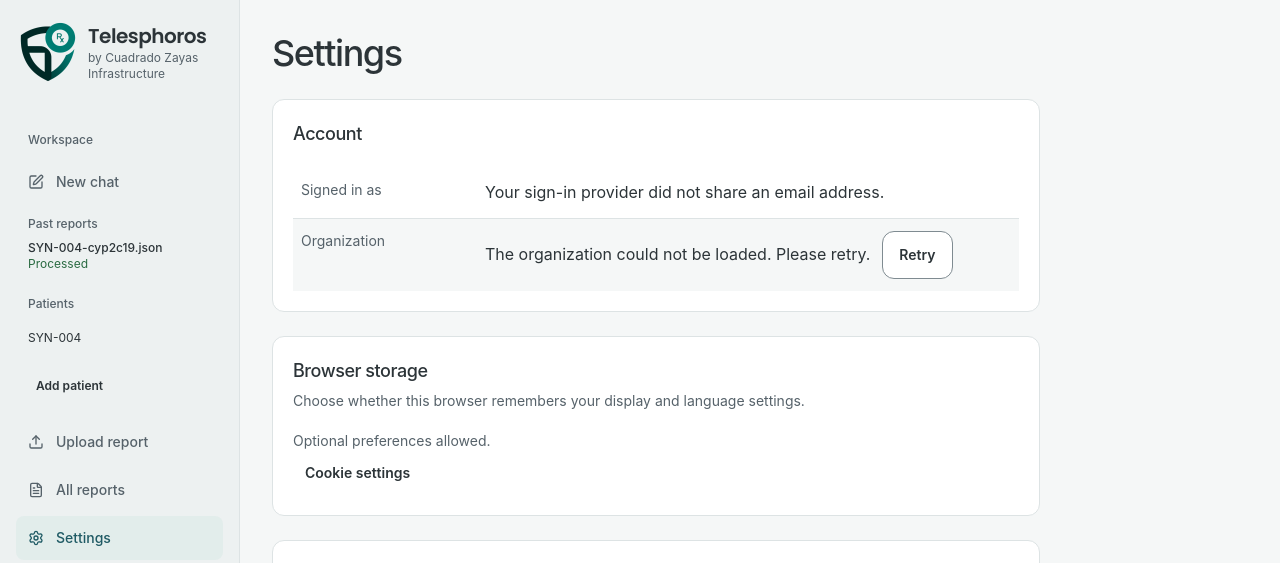
Test case: the feature panel (specs/024 D2, D6, CH-2) › Add patient (CH-9, D2a) › creates exactly one patient with a request id, then lists it
Click the button "Add patient".
click(120, 386)  # box [28,364,211,408]
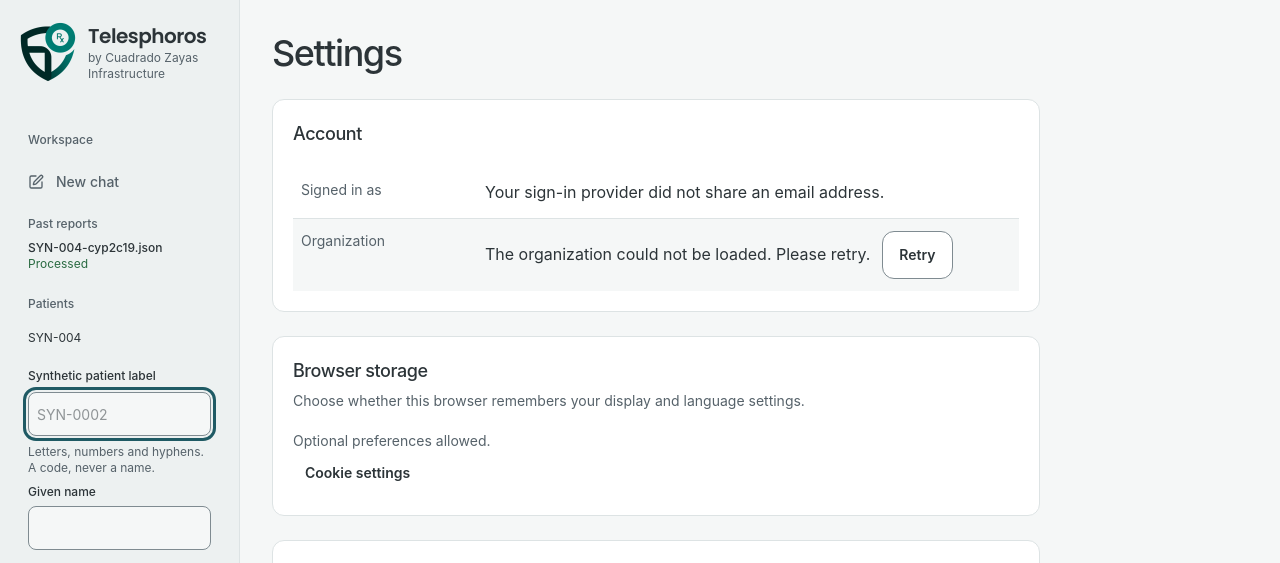
Type "SYN-777" into the field labelled "Synthetic patient label".
click(120, 414); type("SYN-777")  # box [28,392,211,436]
(page scrolled)
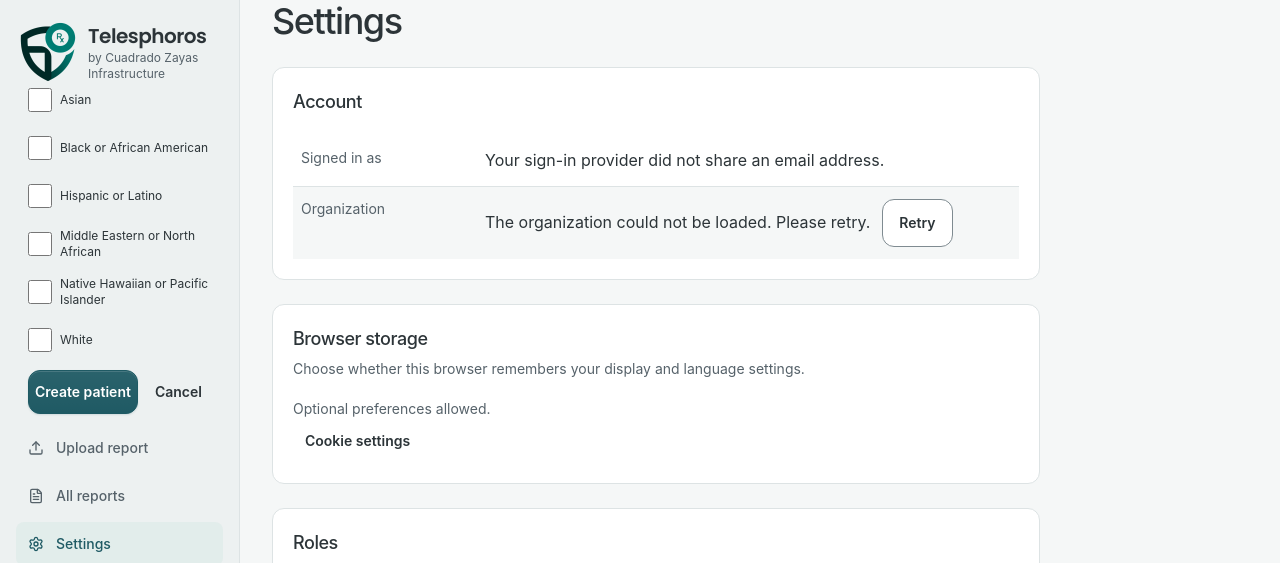
Click the button "Create patient".
click(83, 392)  # box [28,370,138,414]
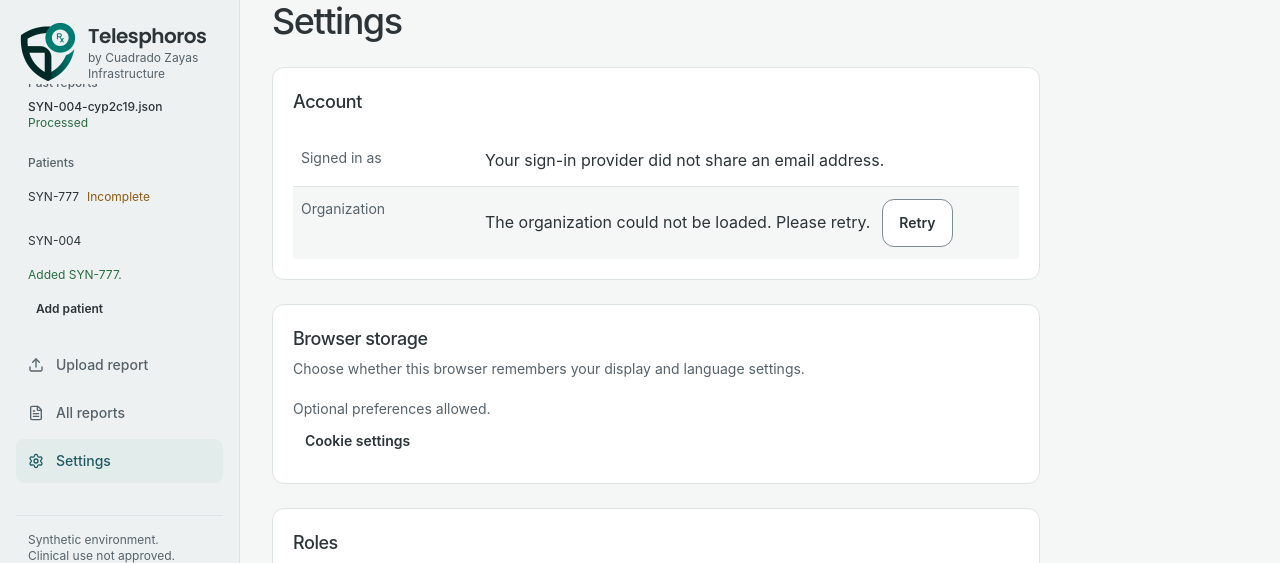
expect the link "SYN-777" is shown: met, box [28,189,79,204]
